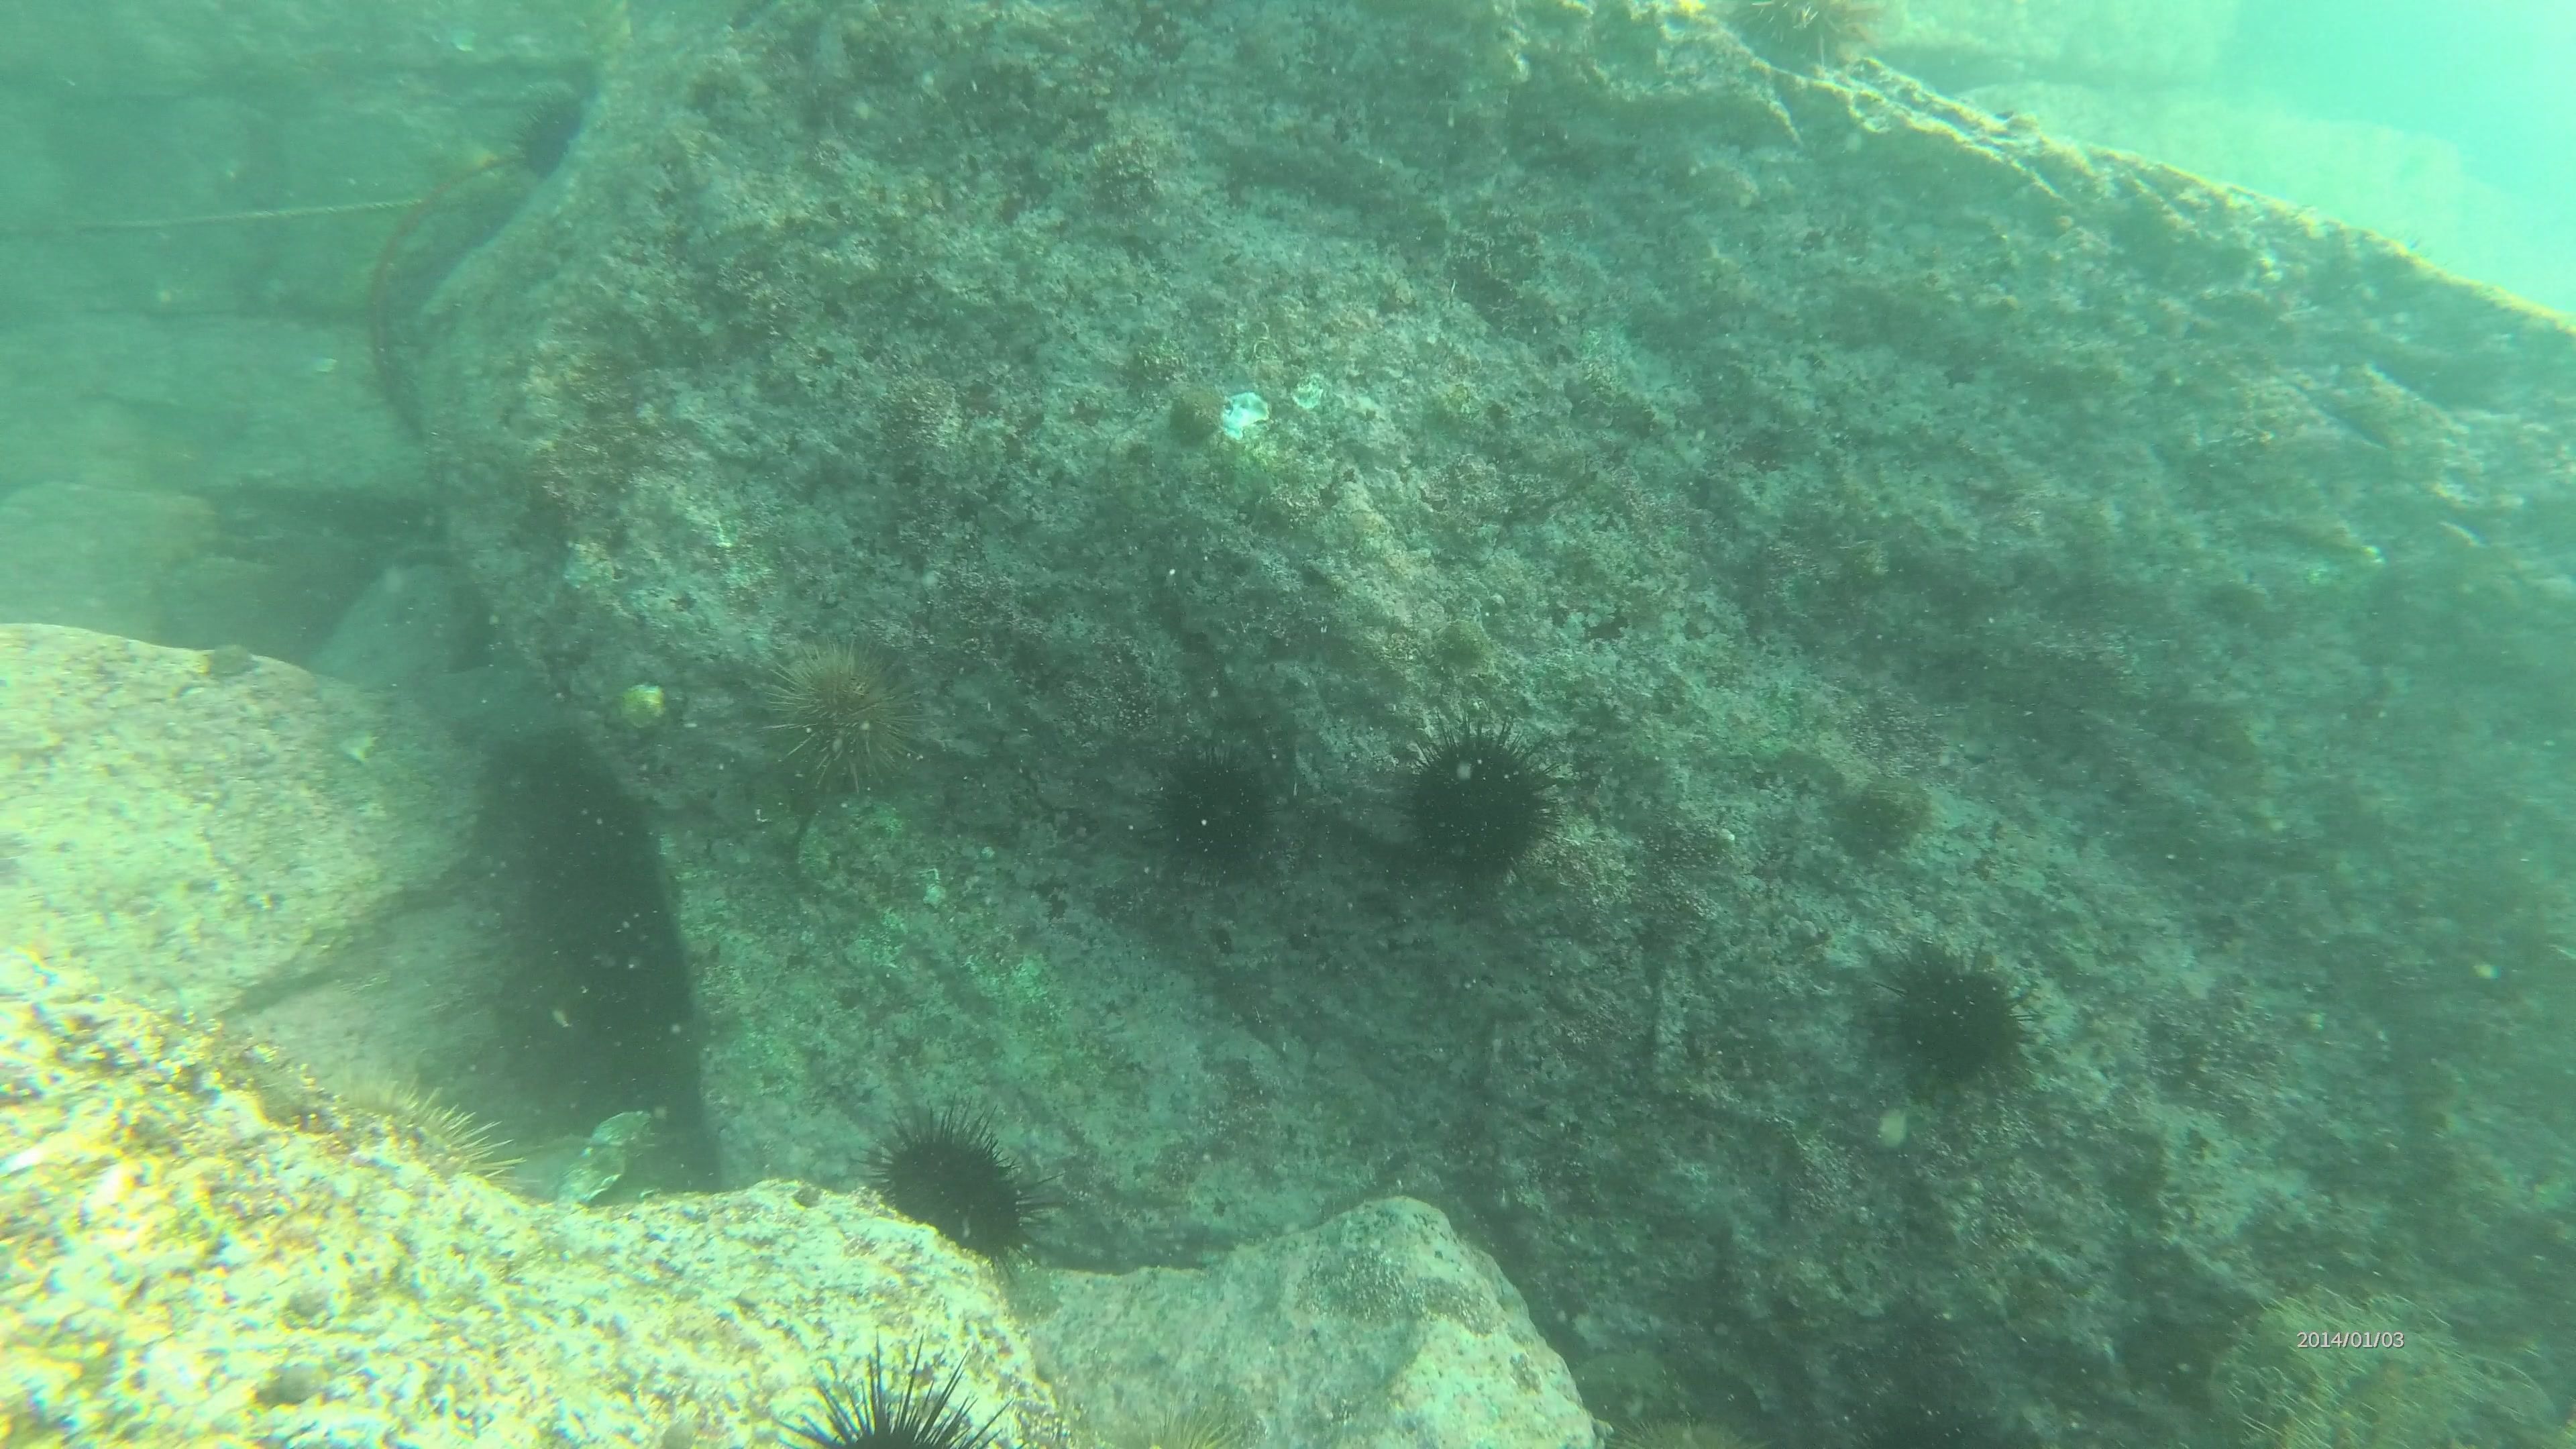echinus: (860, 1100, 1062, 1286), (1405, 711, 1571, 897), (770, 1336, 1016, 1449), (1874, 939, 2054, 1093), (757, 644, 931, 801), (333, 1079, 536, 1212), (1150, 741, 1272, 869), (1093, 1396, 1253, 1449)
